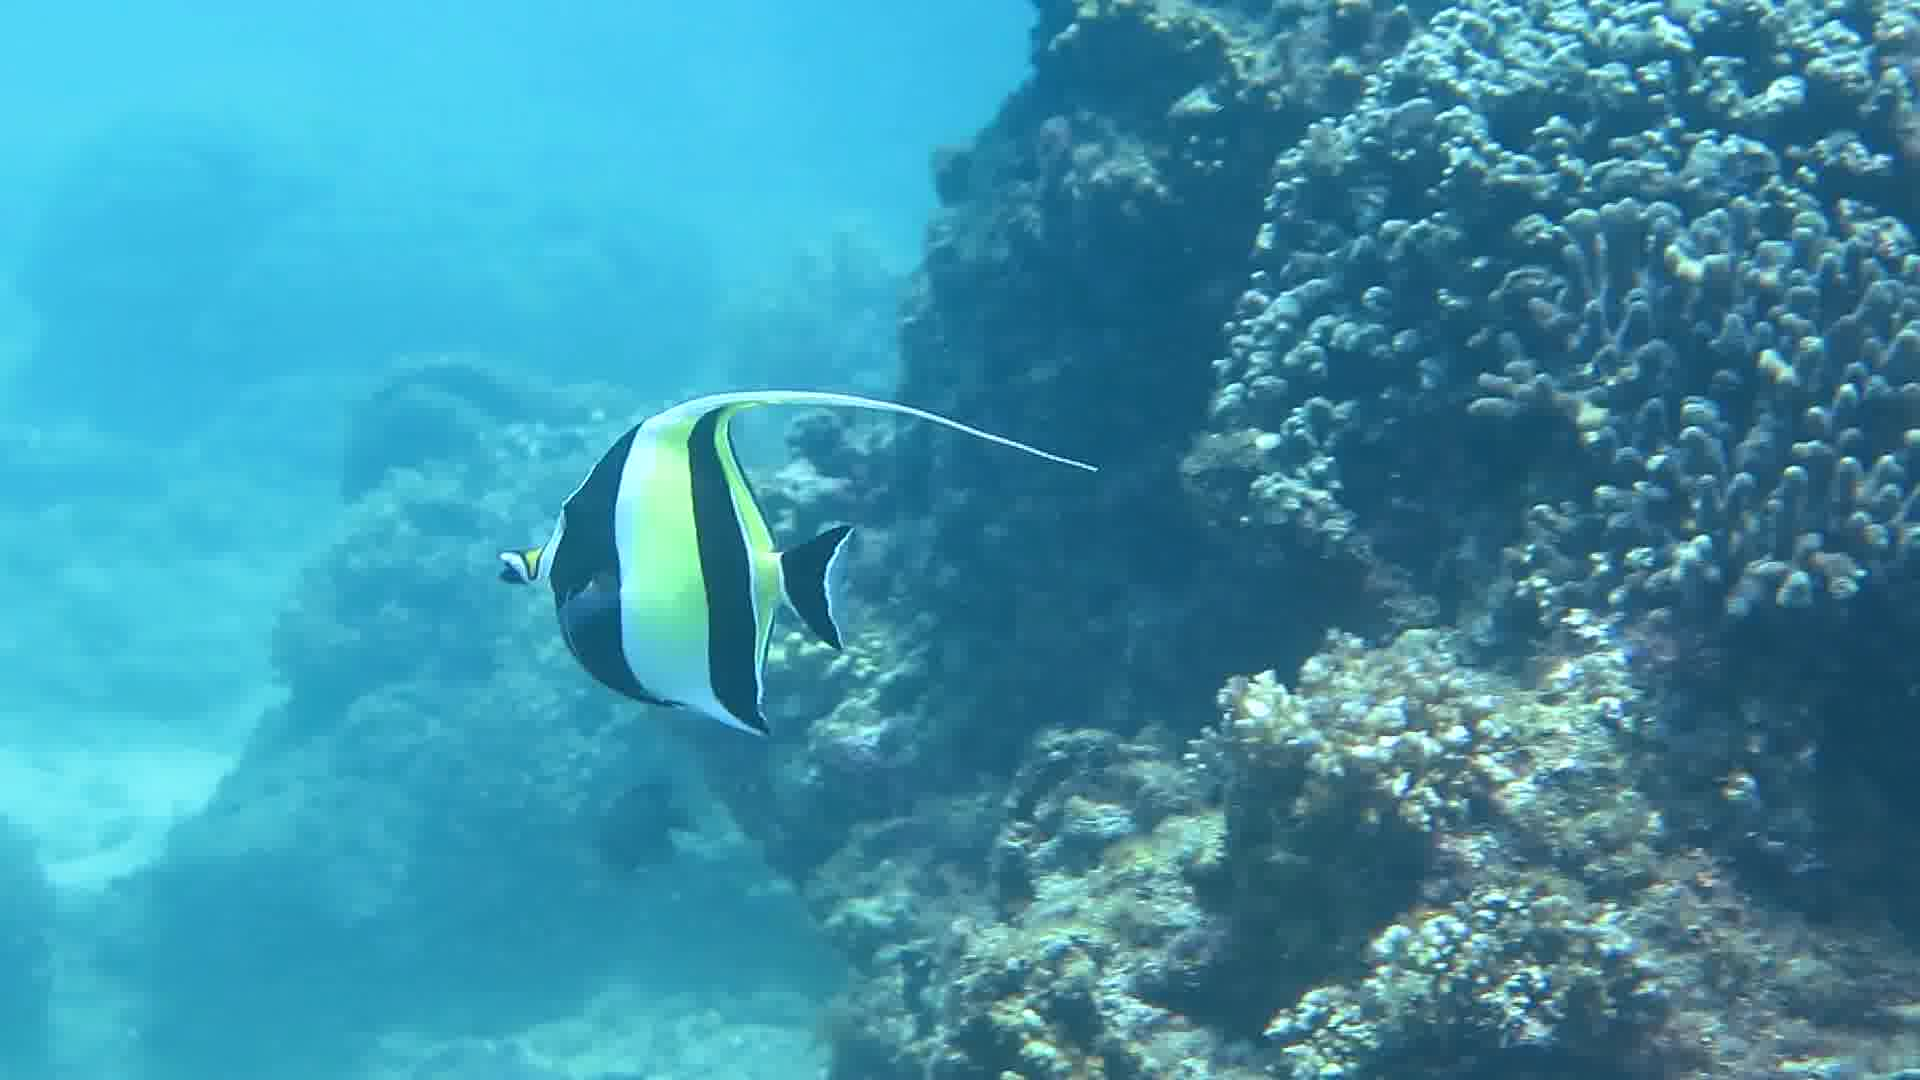Zanclus cornutus: (483, 339, 839, 760)
